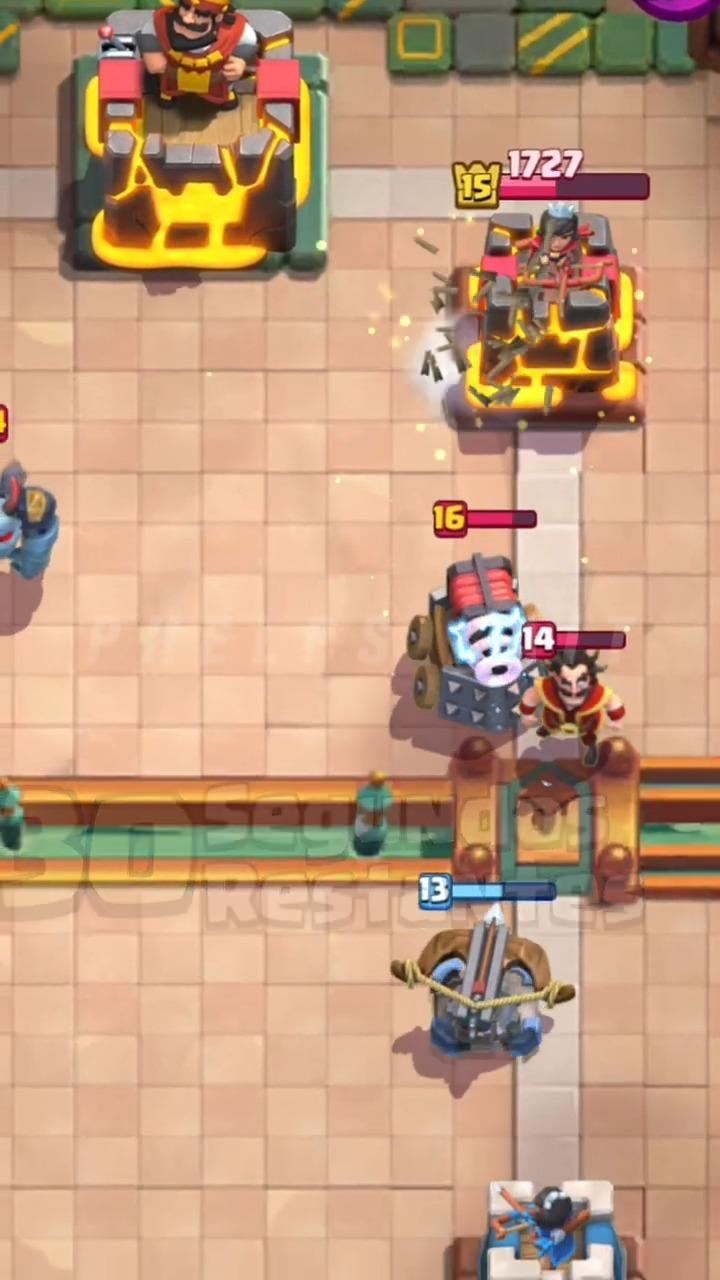electro wizard: (520, 648, 624, 767)
mega minion: (0, 464, 59, 580)
sparky: (406, 553, 541, 737)
x-bow: (391, 903, 575, 1060), (418, 876, 453, 909)
